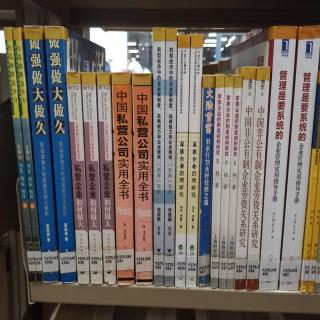book-spine: (254, 25, 298, 290), (277, 24, 320, 293), (23, 23, 60, 284), (3, 24, 38, 286), (42, 24, 77, 284), (12, 28, 43, 283), (244, 65, 273, 290), (230, 66, 259, 290), (110, 72, 136, 284), (80, 72, 105, 285), (298, 56, 320, 291), (66, 72, 90, 286), (95, 72, 117, 285), (185, 36, 203, 287), (133, 74, 154, 287), (224, 75, 243, 292), (217, 76, 236, 290), (162, 26, 177, 287), (207, 73, 225, 289), (197, 75, 215, 286), (152, 27, 165, 287), (177, 33, 189, 287)
